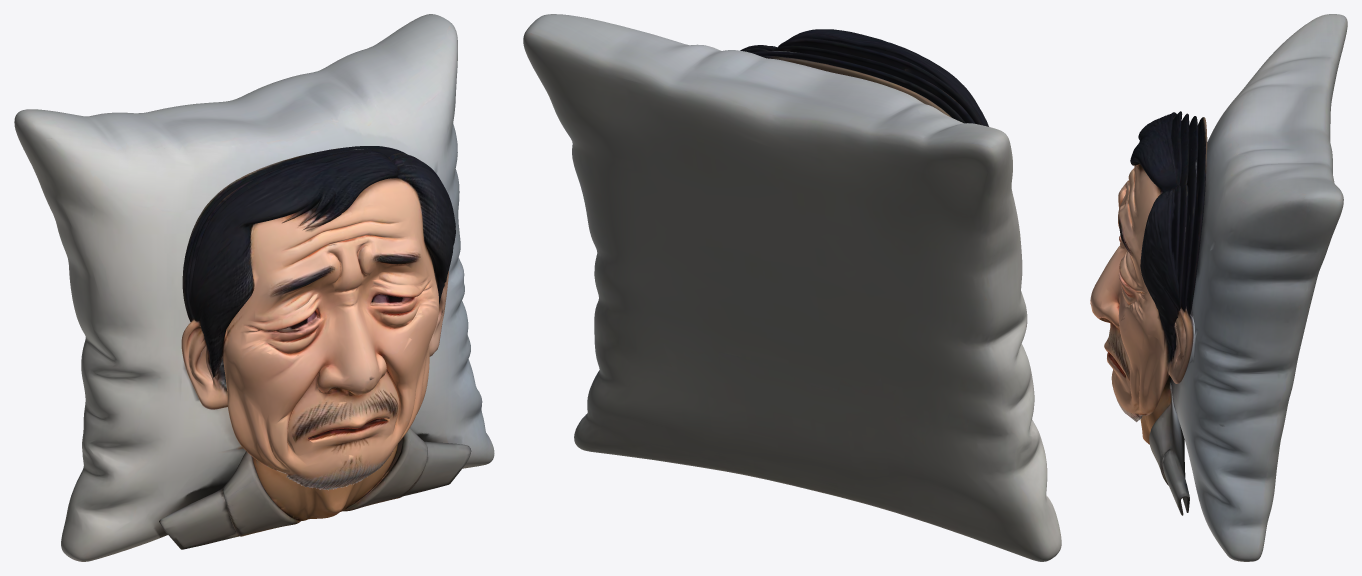
The model's file is ojisan-pillow.glb.
3 views of the same model, side by side, from view 1: azimuth 30°, elevation 25°; view 2: azimuth 150°, elevation 25°; view 3: azimuth 270°, elevation 25° (orthographic). The views are drawn at different scales.
Visible parts, largest first — view 1: node_0; view 2: node_0; view 3: node_0.
Part boxes in pixels (x1,y1,x2,y2): node_0: (14,14,494,561); node_0: (523,14,1061,561); node_0: (1090,14,1347,561).
Size of the model in its own units: 0.8317 by 0.7671 by 0.4846.
Materials: 1 (1 with a texture image).
